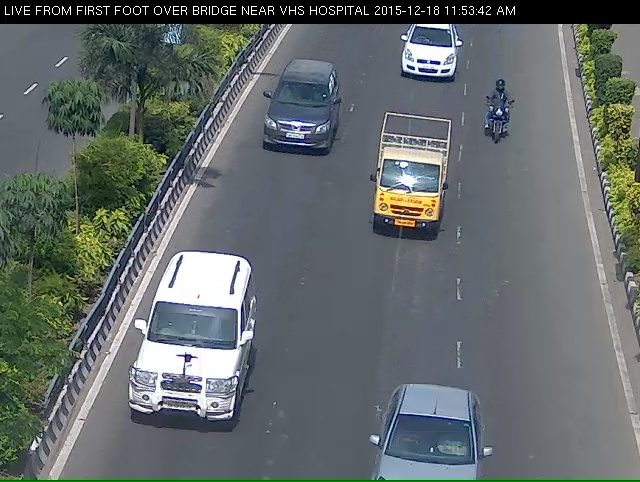Car: (106, 261, 248, 459), (363, 107, 450, 267), (366, 393, 494, 481), (251, 60, 340, 169), (387, 16, 457, 93)
Person: (470, 80, 515, 160)
